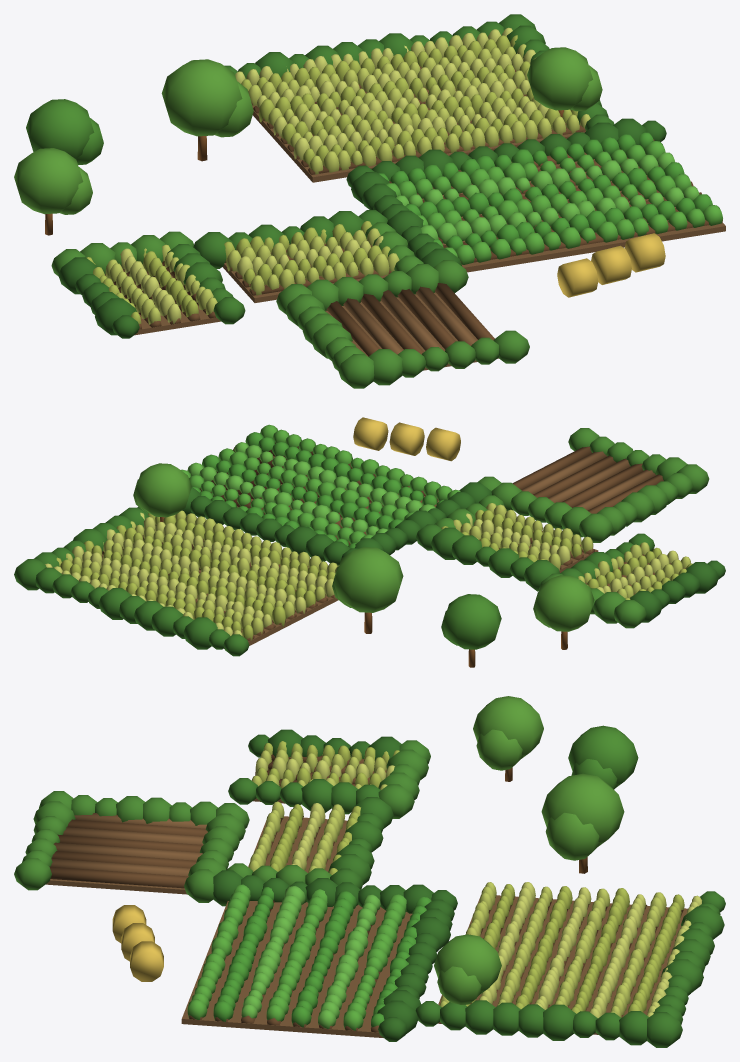
Rendered from improvement_farm_2_1.fbx.
3 views of the same model, one above another, from view 1: azimuth 30°, elevation 25°; view 2: azimuth 150°, elevation 25°; view 3: azimuth 270°, elevation 25° (orthographic). The views are drawn at different scales.
Visible parts, largest first — view 1: improvement_farm_2_1_crop#b8c45a.005_06, improvement_farm_2_1_crop#a8b84c.005_07, improvement_farm_2_1_leaf#5a9a38.004_20, improvement_farm_2_1_crop#c4cc66.004_08, improvement_farm_2_1_crop#5aa83e.004_14, improvement_farm_2_1_crop#4c9a36.004_15, improvement_farm_2_1_hedge2.014_03, improvement_farm_2_1_crop#68b448.003_16, improvement_farm_2_1_hedge2.015_11, improvement_farm_2_1_hedge2.016_12, improvement_farm_2_1_tilled.005_00, improvement_farm_2_1_hedge0.015_04 (+9 smaller); view 2: improvement_farm_2_1_crop#b8c45a.005_06, improvement_farm_2_1_crop#a8b84c.005_07, improvement_farm_2_1_hedge2.016_12, improvement_farm_2_1_leaf#5a9a38.004_20, improvement_farm_2_1_crop#c4cc66.004_08, improvement_farm_2_1_crop#5aa83e.004_14, improvement_farm_2_1_crop#4c9a36.004_15, improvement_farm_2_1_hedge2.015_11, improvement_farm_2_1_crop#68b448.003_16, improvement_farm_2_1_hedge2.014_03, improvement_farm_2_1_hedge0.015_04, improvement_farm_2_1_hedge0.017_17 (+10 smaller); view 3: improvement_farm_2_1_tilled.005_00, improvement_farm_2_1_leaf#5a9a38.004_20, improvement_farm_2_1_hedge0.016_09, improvement_farm_2_1_crop#a8b84c.005_07, improvement_farm_2_1_crop#b8c45a.005_06, improvement_farm_2_1_crop#c4cc66.004_08, improvement_farm_2_1_crop#5aa83e.004_14, improvement_farm_2_1_hedge2.016_12, improvement_farm_2_1_crop#4c9a36.004_15, improvement_farm_2_1_hedge2.015_11, improvement_farm_2_1_hedge2.014_03, improvement_farm_2_1_plough0.004_01 (+8 smaller).
Boxes of the visible parts, x1=… form: improvement_farm_2_1_crop#b8c45a.005_06: x1=105, y1=44, x2=590, y2=324; improvement_farm_2_1_crop#a8b84c.005_07: x1=86, y1=35, x2=578, y2=323; improvement_farm_2_1_leaf#5a9a38.004_20: x1=14, y1=47, x2=602, y2=214; improvement_farm_2_1_crop#c4cc66.004_08: x1=120, y1=27, x2=548, y2=323; improvement_farm_2_1_crop#5aa83e.004_14: x1=386, y1=141, x2=722, y2=264; improvement_farm_2_1_crop#4c9a36.004_15: x1=378, y1=132, x2=712, y2=250; improvement_farm_2_1_hedge2.014_03: x1=307, y1=260, x2=529, y2=385; improvement_farm_2_1_crop#68b448.003_16: x1=396, y1=152, x2=699, y2=243; improvement_farm_2_1_hedge2.015_11: x1=58, y1=165, x2=462, y2=338; improvement_farm_2_1_hedge2.016_12: x1=193, y1=21, x2=503, y2=268; improvement_farm_2_1_tilled.005_00: x1=120, y1=87, x2=725, y2=370; improvement_farm_2_1_hedge0.015_04: x1=276, y1=222, x2=423, y2=388; improvement_farm_2_1_crop#b8c45a.005_06: x1=66, y1=503, x2=691, y2=634; improvement_farm_2_1_crop#a8b84c.005_07: x1=56, y1=509, x2=692, y2=640; improvement_farm_2_1_hedge2.016_12: x1=35, y1=524, x2=559, y2=656; improvement_farm_2_1_leaf#5a9a38.004_20: x1=133, y1=463, x2=594, y2=631; improvement_farm_2_1_crop#c4cc66.004_08: x1=45, y1=512, x2=678, y2=636; improvement_farm_2_1_crop#5aa83e.004_14: x1=181, y1=424, x2=460, y2=543; improvement_farm_2_1_crop#4c9a36.004_15: x1=192, y1=432, x2=443, y2=548; improvement_farm_2_1_hedge2.015_11: x1=341, y1=482, x2=725, y2=622; improvement_farm_2_1_crop#68b448.003_16: x1=187, y1=442, x2=436, y2=535; improvement_farm_2_1_hedge2.014_03: x1=477, y1=428, x2=687, y2=537; improvement_farm_2_1_hedge0.015_04: x1=434, y1=464, x2=709, y2=542; improvement_farm_2_1_hedge0.017_17: x1=182, y1=487, x2=350, y2=565; improvement_farm_2_1_tilled.005_00: x1=46, y1=760, x2=687, y2=1037; improvement_farm_2_1_leaf#5a9a38.004_20: x1=434, y1=696, x2=624, y2=1004; improvement_farm_2_1_hedge0.016_09: x1=228, y1=778, x2=682, y2=1047; improvement_farm_2_1_crop#a8b84c.005_07: x1=257, y1=741, x2=684, y2=1013; improvement_farm_2_1_crop#b8c45a.005_06: x1=248, y1=749, x2=666, y2=1017; improvement_farm_2_1_crop#c4cc66.004_08: x1=255, y1=757, x2=701, y2=1018; improvement_farm_2_1_crop#5aa83e.004_14: x1=187, y1=884, x2=406, y2=1030; improvement_farm_2_1_hedge2.016_12: x1=328, y1=797, x2=725, y2=1024; improvement_farm_2_1_crop#4c9a36.004_15: x1=213, y1=887, x2=431, y2=1027; improvement_farm_2_1_hedge2.015_11: x1=213, y1=729, x2=457, y2=913; improvement_farm_2_1_hedge2.014_03: x1=14, y1=801, x2=245, y2=902; improvement_farm_2_1_plough0.004_01: x1=49, y1=819, x2=207, y2=888.
Bounding box in the file's own units: 208 × 32.58 × 210.
